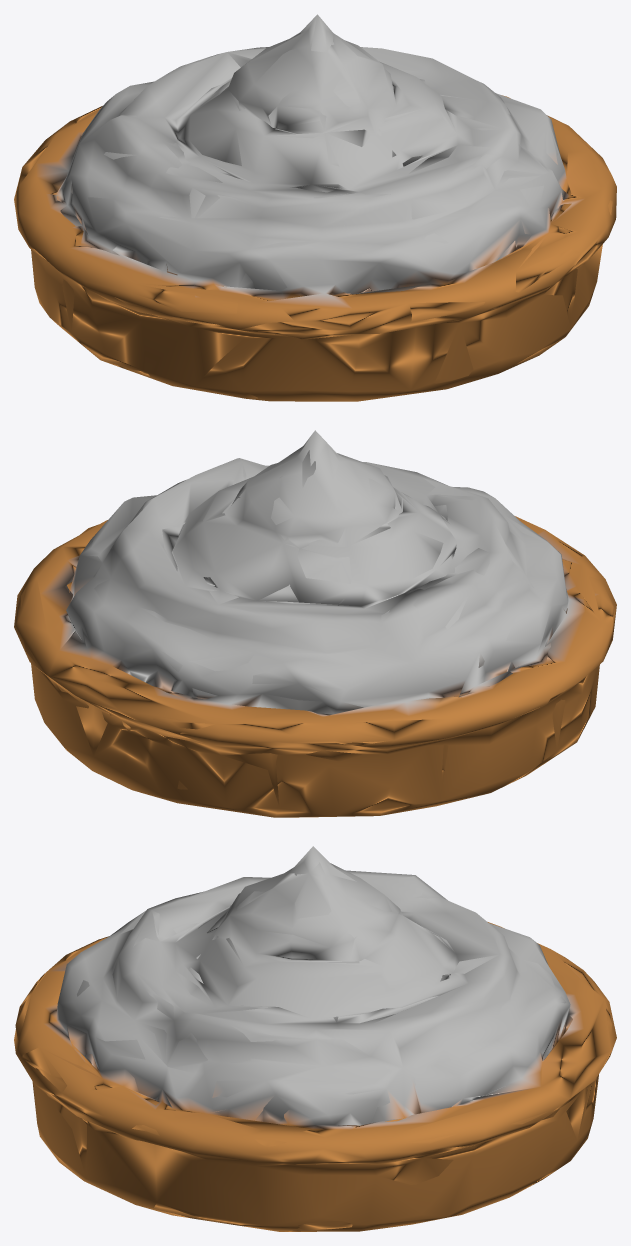
The model's file is gen3d-cream-pie-lod0.glb.
3 views of the same model, one above another, from view 1: azimuth 30°, elevation 25°; view 2: azimuth 150°, elevation 25°; view 3: azimuth 270°, elevation 25° (orthographic).
Visible parts, largest first — view 1: part_0; view 2: part_0; view 3: part_0.
Boxes of the visible parts, x1,y1,x2,y2 form: part_0: (14,14,616,401); part_0: (14,430,616,817); part_0: (14,846,616,1231).
Size of the model in its own units: 1.96 by 0.9861 by 1.96.
